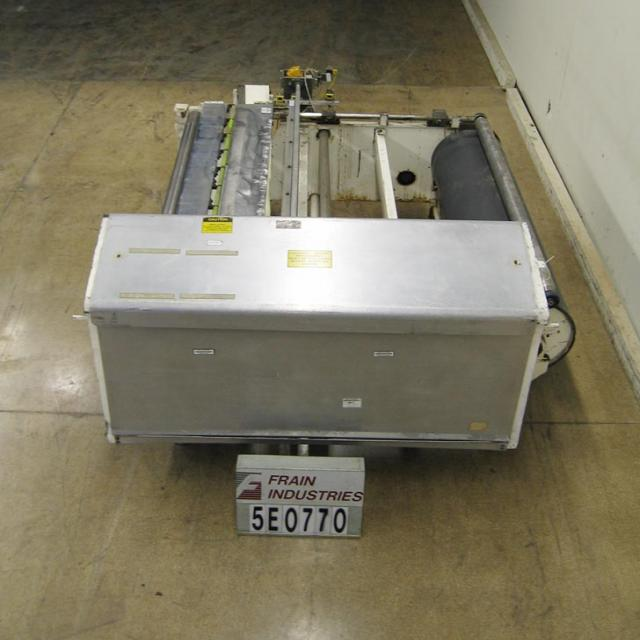broyeur: (81, 57, 580, 451)
